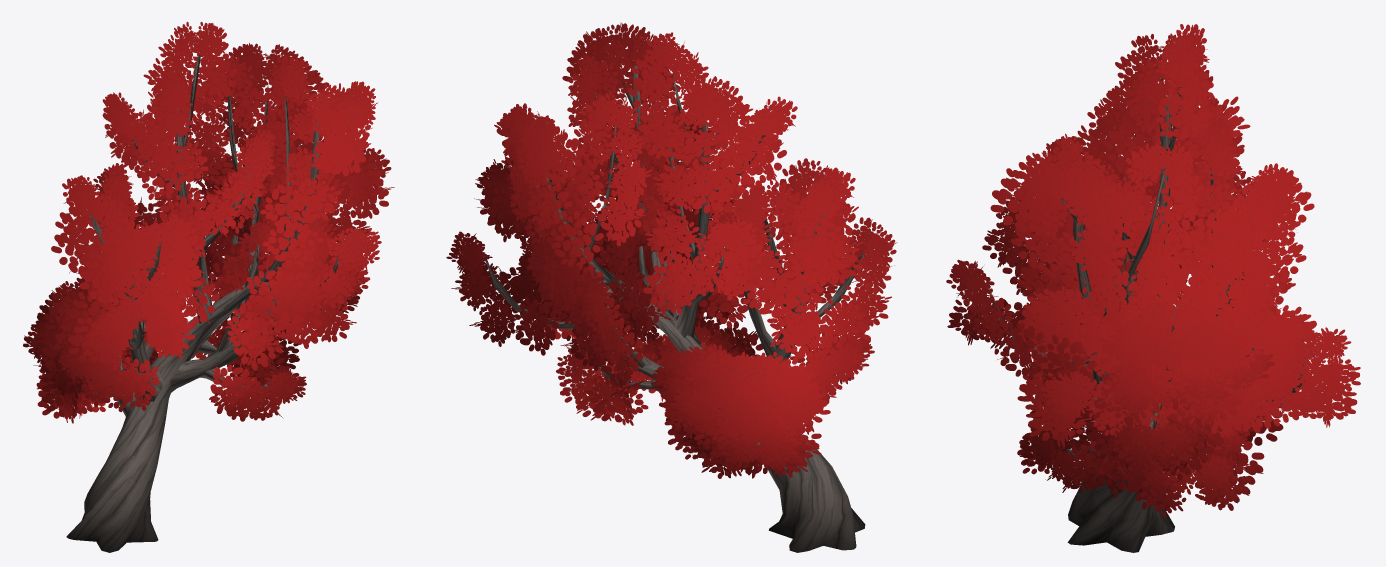
The model's file is tree-late-1-mature.glb.
The picture shows the model from 3 angles, left to right: view 1: azimuth 30°, elevation 25°; view 2: azimuth 150°, elevation 25°; view 3: azimuth 270°, elevation 25°; orthographic projection. The views are drawn at different scales.
Visible parts, largest first — view 1: TwistedTree_1; view 2: TwistedTree_1; view 3: TwistedTree_1.
Boxes of the visible parts, left/top/right/bottom form: TwistedTree_1: left=23, top=21, right=394, bottom=552; TwistedTree_1: left=446, top=22, right=897, bottom=552; TwistedTree_1: left=946, top=24, right=1360, bottom=552.
Bounding box in the file's own units: 4.32 × 5.35 × 3.69.
2 materials, 2 textured.
